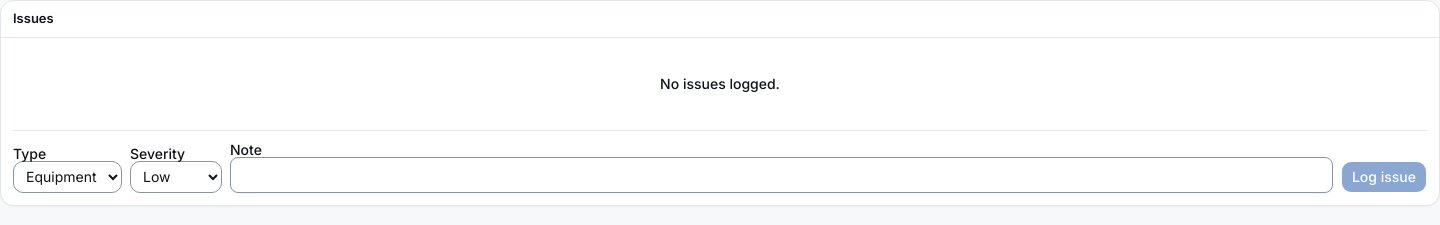
IssuesCard › creates an issue
Select "Supply" in the dropdown labelled "Type": (68, 176) [13,160,122,192]
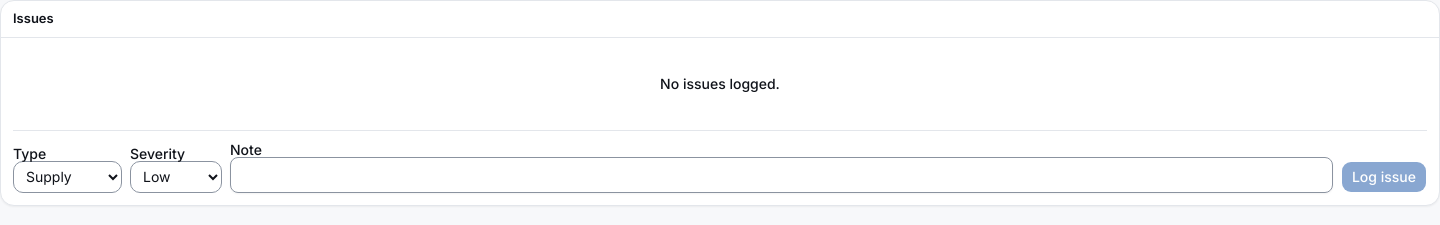
Select "Medium" in the dropdown labelled "Severity": (176, 176) [130,160,222,192]
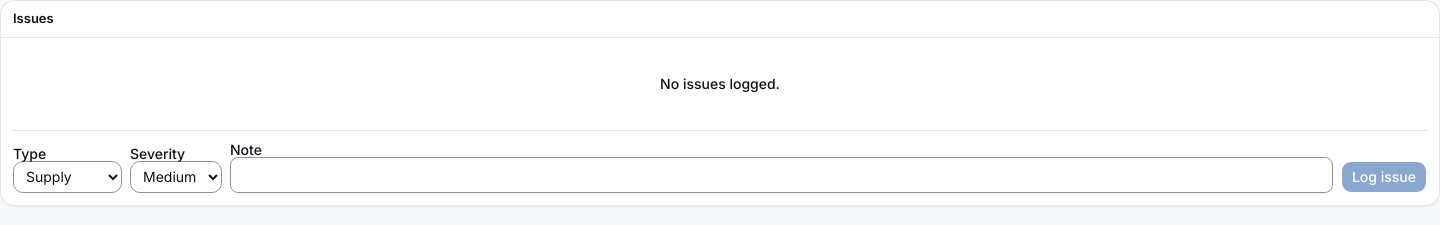
In the field labelled "Note": (782, 174) [230,156,1333,192], type "Out of oat milk"
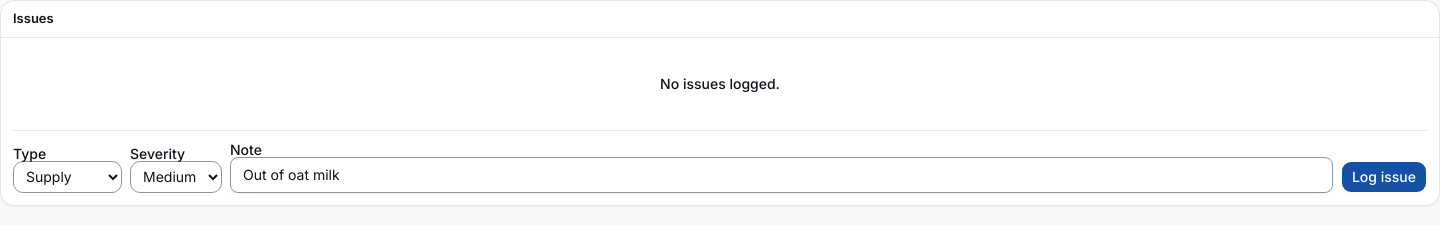
Click the button "Log issue": (1384, 176) [1341,160,1427,192]
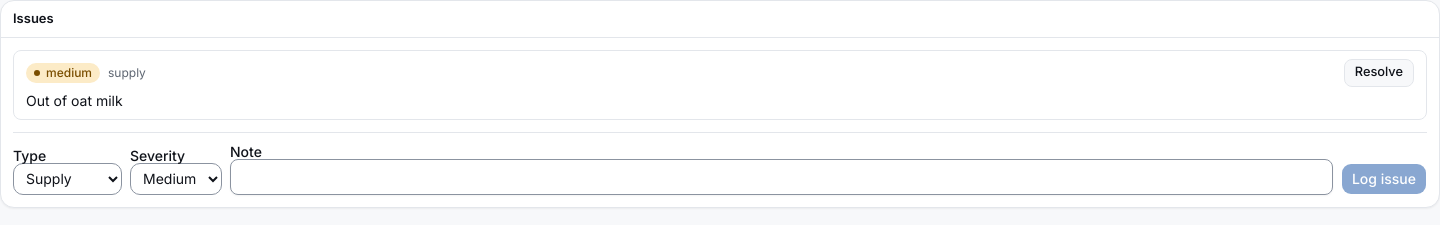
Expected: the text "Out of oat milk" is shown, [26,92,123,108]
